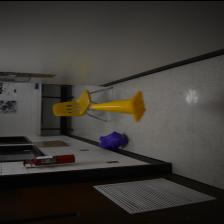cone: (90, 90, 148, 122)
cube: (102, 130, 128, 147), (99, 136, 121, 148)
